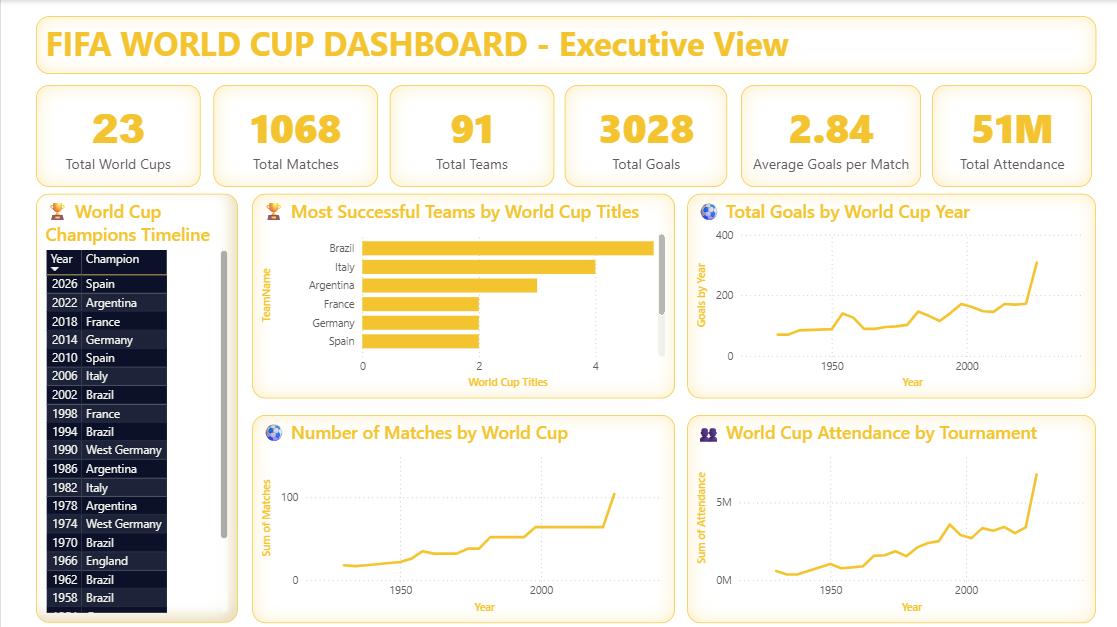

The page's visual inventory and layout, read from the dashboard file:
{"tool":"powerbi","page":{"name":"Executive Overview","canvas":[1280,720],"ordinal":0},"visuals":[{"type":"card","fields":{"Values":["DimReferee.Total Matches"]},"box":[242.1,96.1,186.9,115.7],"z":0},{"type":"card","fields":{"Values":["DimReferee.Total World Cups"]},"box":[40,96.1,186.9,115.7],"z":1000},{"type":"card","fields":{"Values":["DimReferee.Total Goals"]},"box":[642,96.1,185.1,115.7],"z":2000},{"type":"card","fields":{"Values":["DimReferee.Average Goals per Match"]},"box":[841.8,96.1,204.7,115.7],"z":3000},{"type":"card","fields":{"Values":["DimReferee.Total Teams"]},"box":[442,96.1,186.9,115.7],"z":4000},{"type":"card","fields":{"Values":["DimReferee.Total Attendance"]},"box":[1059,96.1,181.5,115.7],"z":5000},{"type":"tableEx","title":"🏆 World Cup Champions Timeline","fields":{"Values":["DimWorldCup.Year","DimWorldCup.Champion"]},"box":[39.2,220.7,229.6,487.7],"z":6000},{"type":"clusteredBarChart","title":"🏆 Most Successful Teams by World Cup Titles","fields":{"Category":["DimTeam.TeamName"],"Y":["DimReferee.World Cup Titles"]},"box":[286.5,220.7,480.5,233.2],"z":7000},{"type":"lineChart","title":"⚽ Total Goals by World Cup Year","fields":{"Category":["DimWorldCup.Year"],"Y":["DimReferee.Goals by Year"]},"box":[781.3,220.7,464.5,233.2],"z":8000},{"type":"lineChart","title":"👥 World Cup Attendance by Tournament","fields":{"Category":["DimWorldCup.Year"],"Y":["Sum(DimWorldCup.Attendance)"]},"box":[781.3,471.6,464.5,236.7],"z":9000},{"type":"lineChart","title":"⚽ Number of Matches by World Cup","fields":{"Category":["DimWorldCup.Year"],"Y":["Sum(DimWorldCup.Matches)"]},"box":[286.5,471.6,480.5,236.7],"z":10000},{"type":"textbox","title":"FIFA WORLD CUP DASHBOARD - Executive View","box":[39.2,17.8,1206.7,65.9],"z":11000}]}

Visuals, with their boxes in screenshot pixels (x1, y1, x2, y2), scaled from the page's 1280x720 canvas onto the 1117x627 screenshot:
card - DimReferee.Total Matches: bbox(211, 84, 374, 184)
card - DimReferee.Total World Cups: bbox(35, 84, 198, 184)
card - DimReferee.Total Goals: bbox(560, 84, 722, 184)
card - DimReferee.Average Goals per Match: bbox(735, 84, 913, 184)
card - DimReferee.Total Teams: bbox(386, 84, 549, 184)
card - DimReferee.Total Attendance: bbox(924, 84, 1083, 184)
"🏆 World Cup Champions Timeline" tableEx: bbox(34, 192, 235, 617)
"🏆 Most Successful Teams by World Cup Titles" clusteredBarChart: bbox(250, 192, 669, 395)
"⚽ Total Goals by World Cup Year" lineChart: bbox(682, 192, 1087, 395)
"👥 World Cup Attendance by Tournament" lineChart: bbox(682, 411, 1087, 617)
"⚽ Number of Matches by World Cup" lineChart: bbox(250, 411, 669, 617)
"FIFA WORLD CUP DASHBOARD - Executive View" textbox: bbox(34, 16, 1087, 73)
